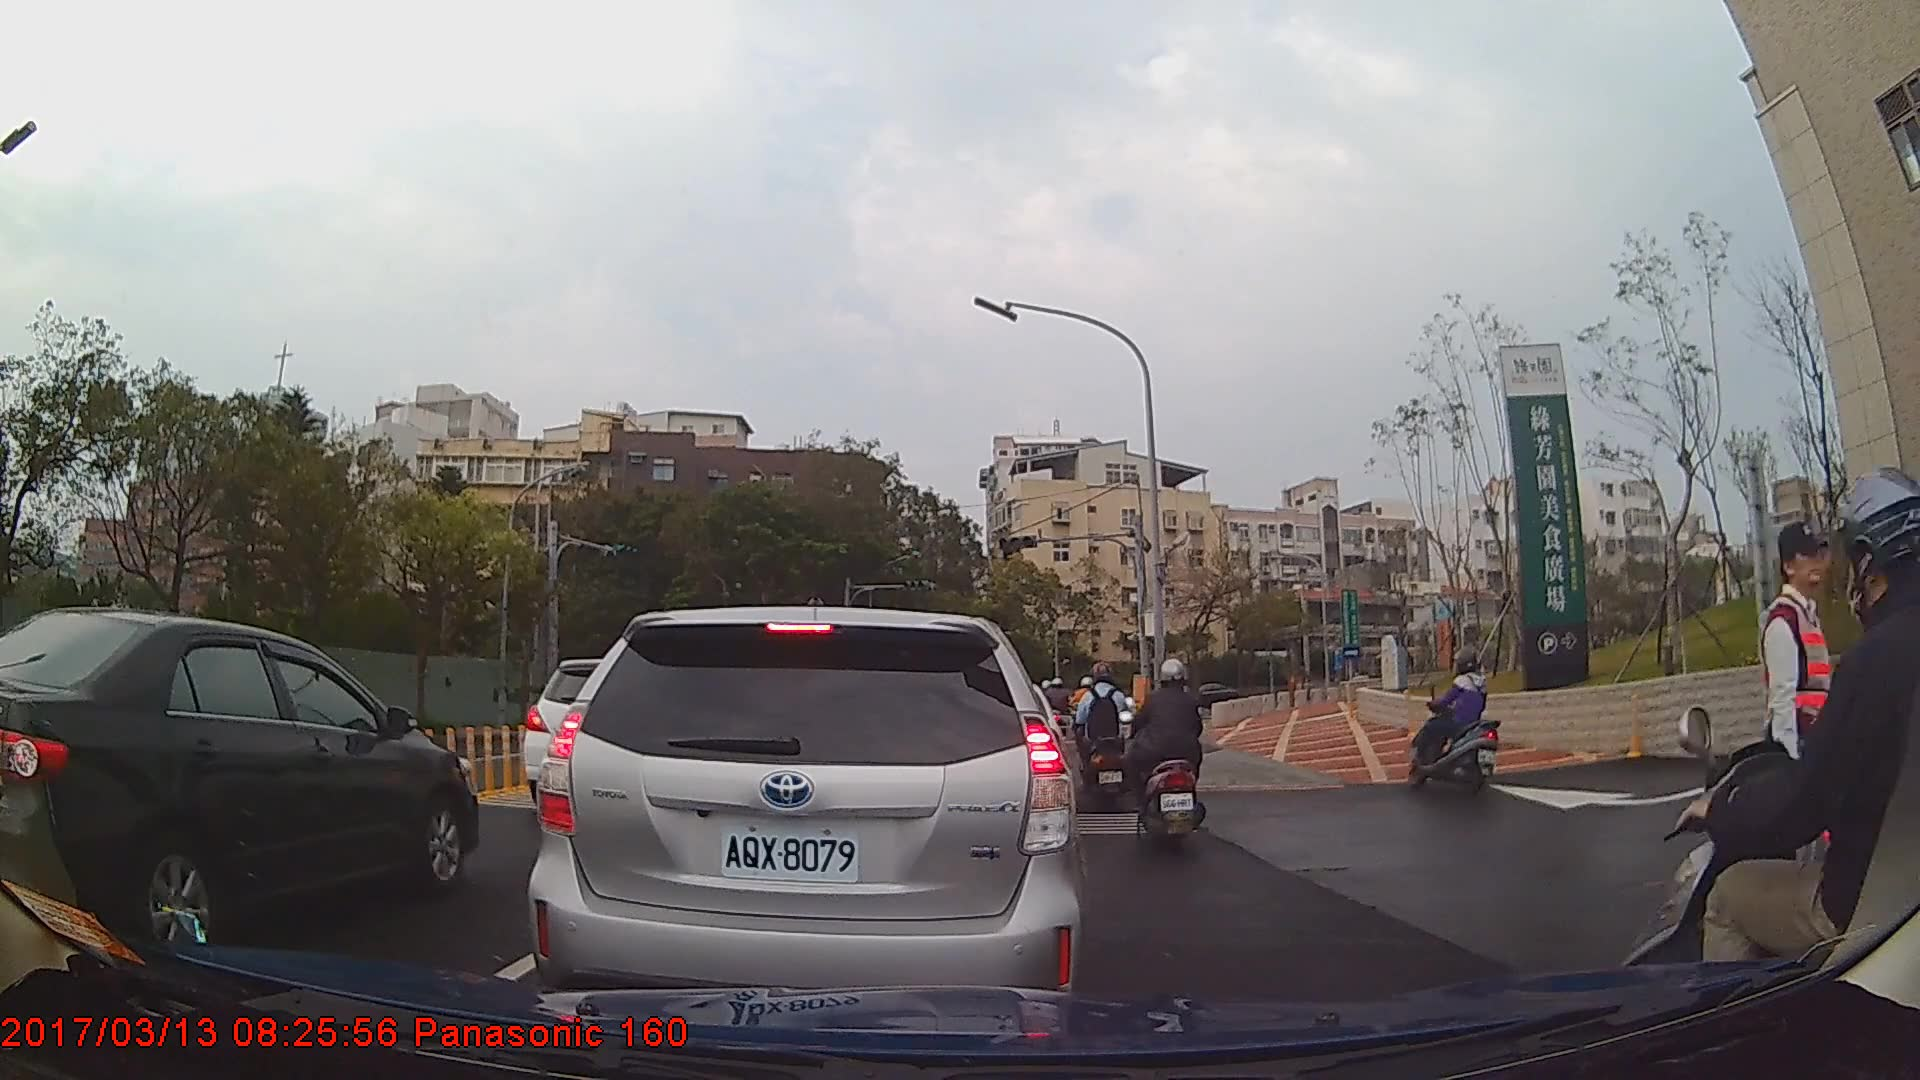pedestrian: (1758, 518, 1869, 968)
rider: (1607, 466, 1920, 1080), (1124, 657, 1205, 849), (1407, 650, 1506, 796), (1074, 658, 1134, 813)
vehicle: (527, 602, 1080, 1034), (0, 606, 480, 956)
